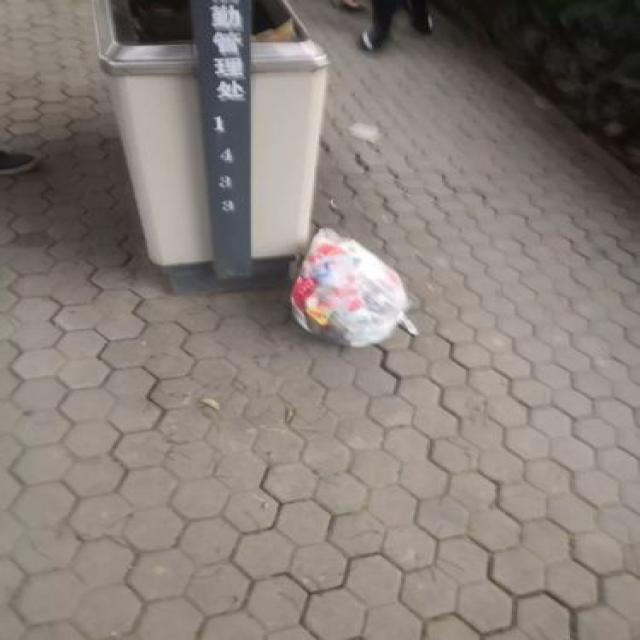garbage: (288, 225, 408, 347)
